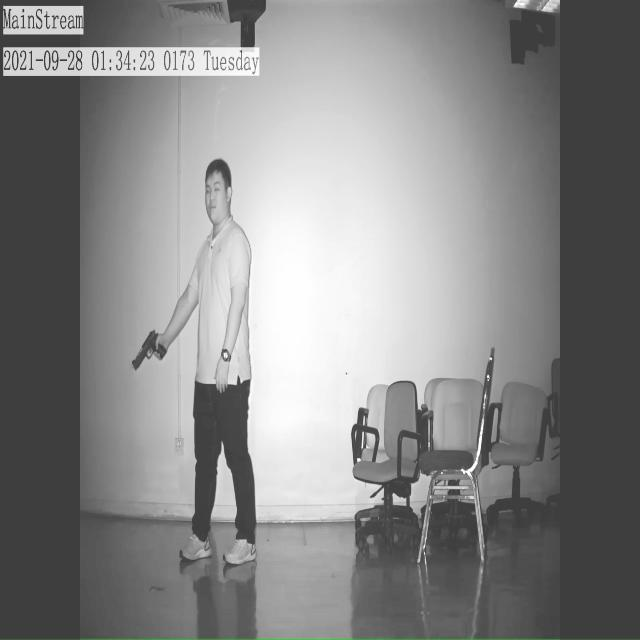Gun: (120, 325, 178, 378)
